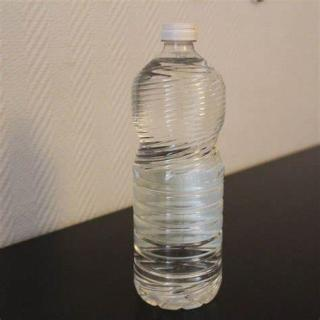Anorganik: (130, 21, 232, 316)
